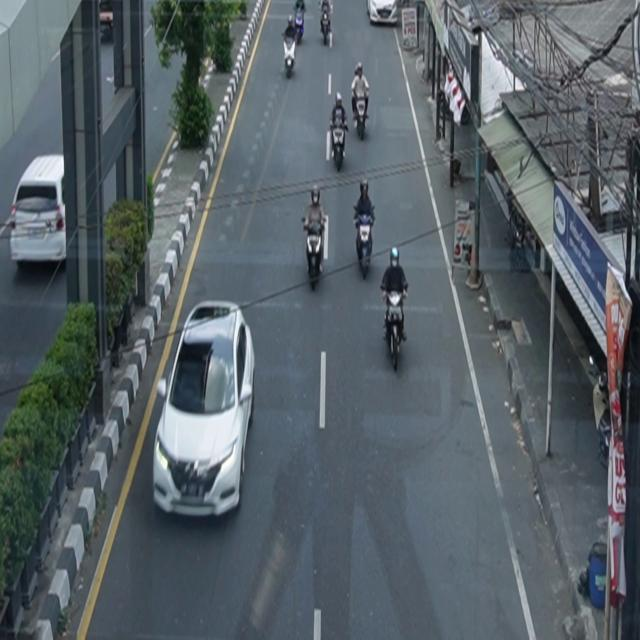car: (154, 300, 257, 519), (10, 155, 67, 267)
